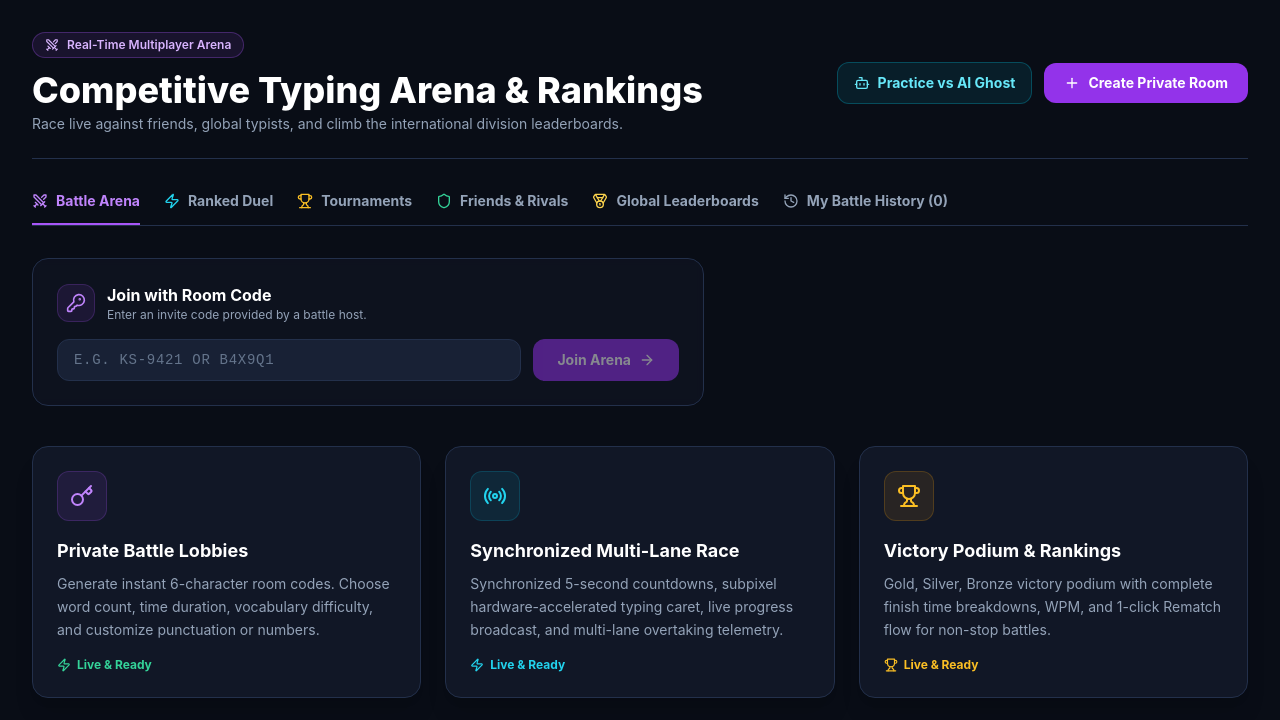
Test: Feature K: Competition History & Leaderboards › CompetePage Tabs Integration › allows toggling between Battle Arena, Global Leaderboards, and My Battle History
Expected: the button "Create Private Room" is shown, top-left (1044, 63), bottom-right (1248, 103)
Note: Switch to Global Leaderboards tab
Click the button "Global Leaderboards": (676, 208) top-left (592, 191), bottom-right (759, 225)
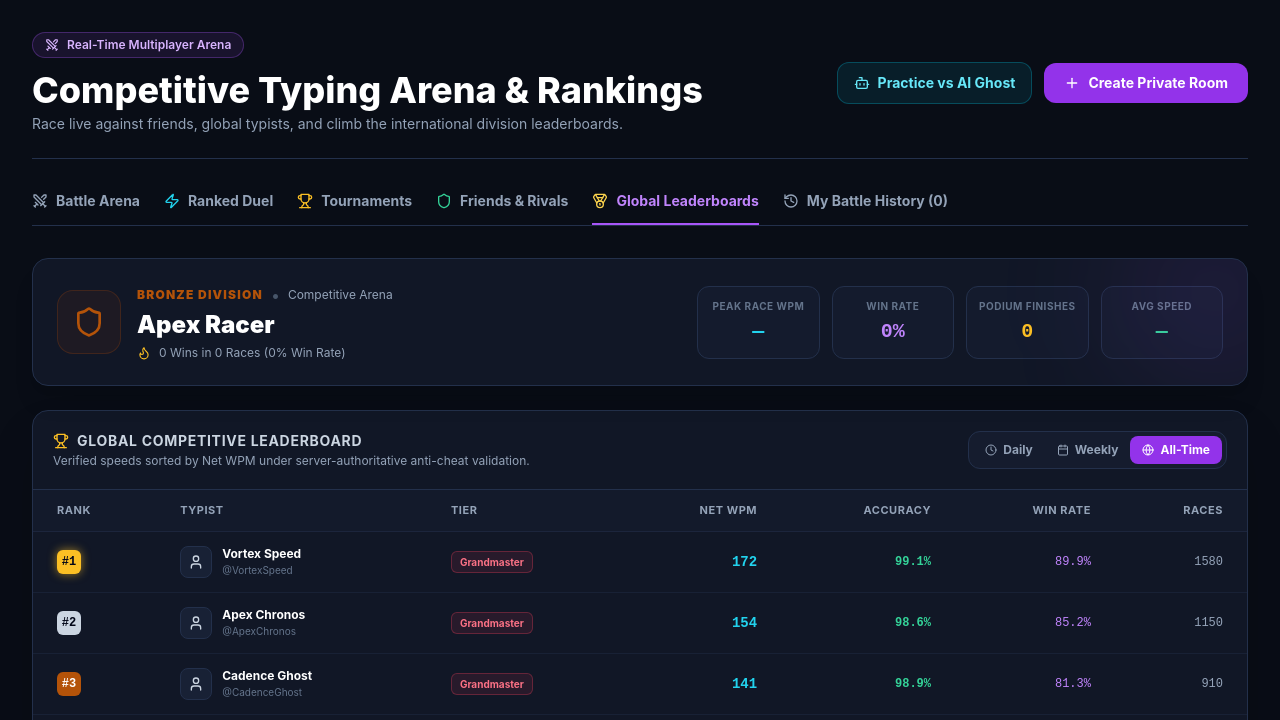
Expected: the heading "Global Competitive Leaderboard" is shown, top-left (77, 431), bottom-right (362, 451)
Expected: the text "Vortex Speed" is shown, top-left (222, 546), bottom-right (301, 562)
Note: Switch to My Battle History tab
Click the button "My Battle History (0)": (865, 208) top-left (783, 191), bottom-right (948, 225)
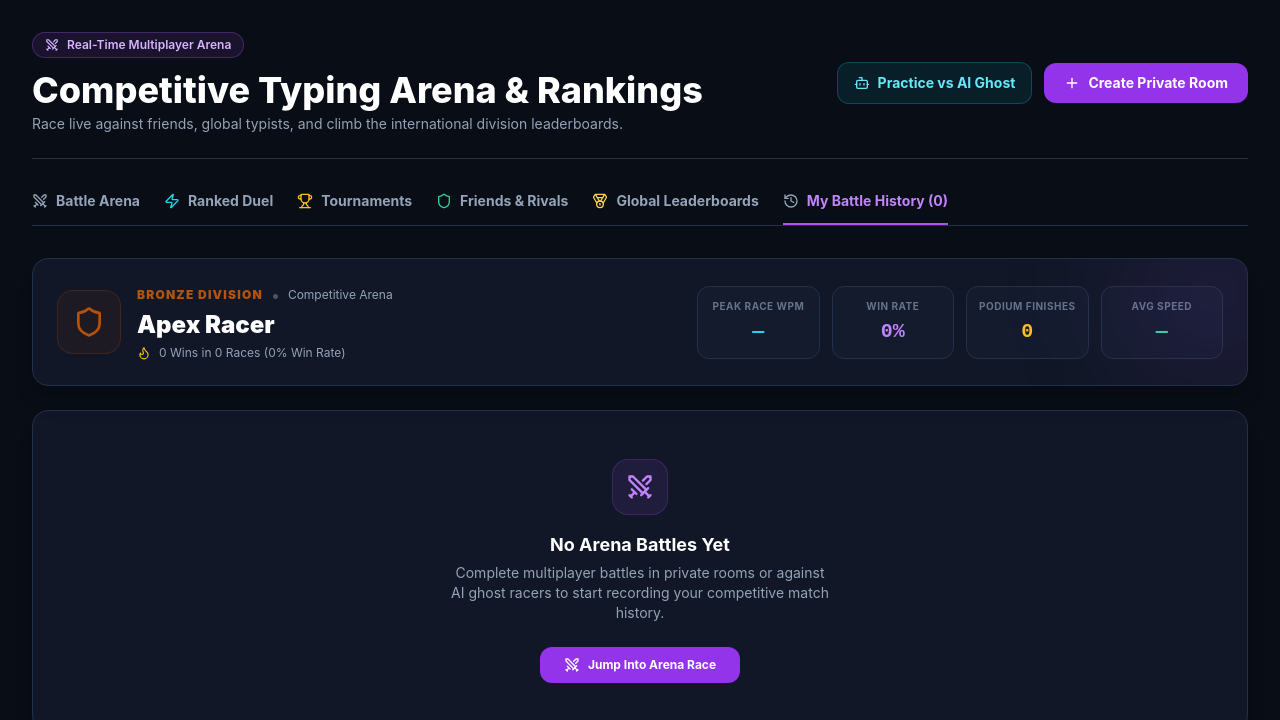
Expected: the heading "No Arena Battles Yet" is shown, top-left (550, 534), bottom-right (730, 555)
